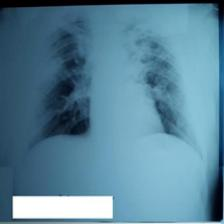tuberculosis: (22, 14, 205, 169)
